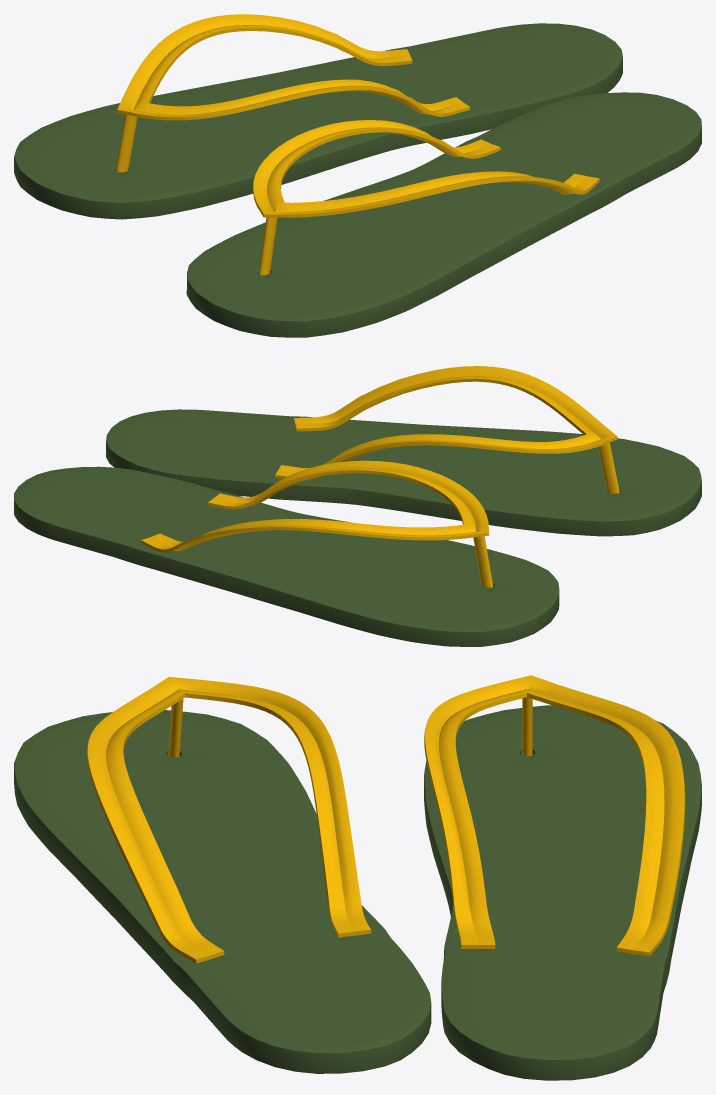
File: chancletasFBX.FBX
3 renders of one model, top to bottom at view 1: azimuth 30°, elevation 25°; view 2: azimuth 150°, elevation 25°; view 3: azimuth 270°, elevation 25°, orthographic. The views are drawn at different scales.
Visible parts, largest first — view 1: suela left, SUela Right, Cinta right, Cinta left; view 2: SUela Right, suela left, Cinta left, Cinta right; view 3: suela left, SUela Right, Cinta right, Cinta left.
Boxes of the visible parts, x1,y1,x2,y2 form: suela left: (186,92,701,337); SUela Right: (14,23,622,219); Cinta right: (115,14,469,172); Cinta left: (253,120,599,275); SUela Right: (14,466,559,646); suela left: (106,409,701,536); Cinta left: (275,366,619,493); Cinta right: (141,460,493,587); suela left: (14,710,431,1073); SUela Right: (424,705,701,1080); Cinta right: (424,675,685,956); Cinta left: (87,677,371,963).
Size of the model in its own units: 190 by 28.49 by 156.
